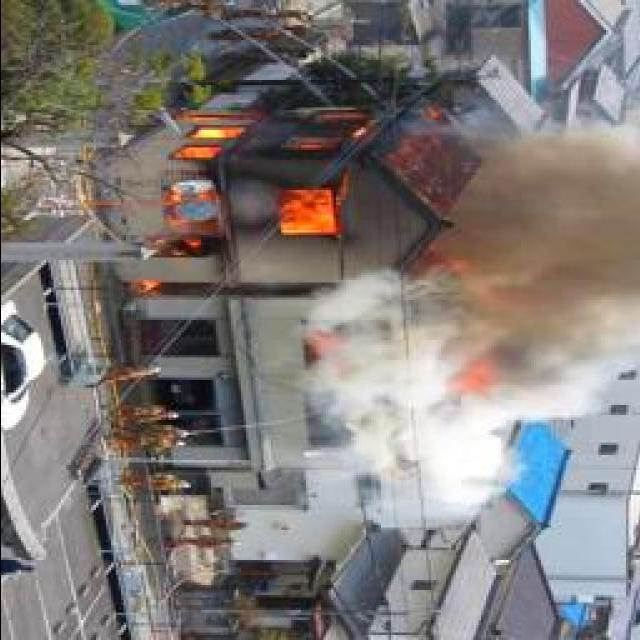Fire: (107, 88, 393, 302)
